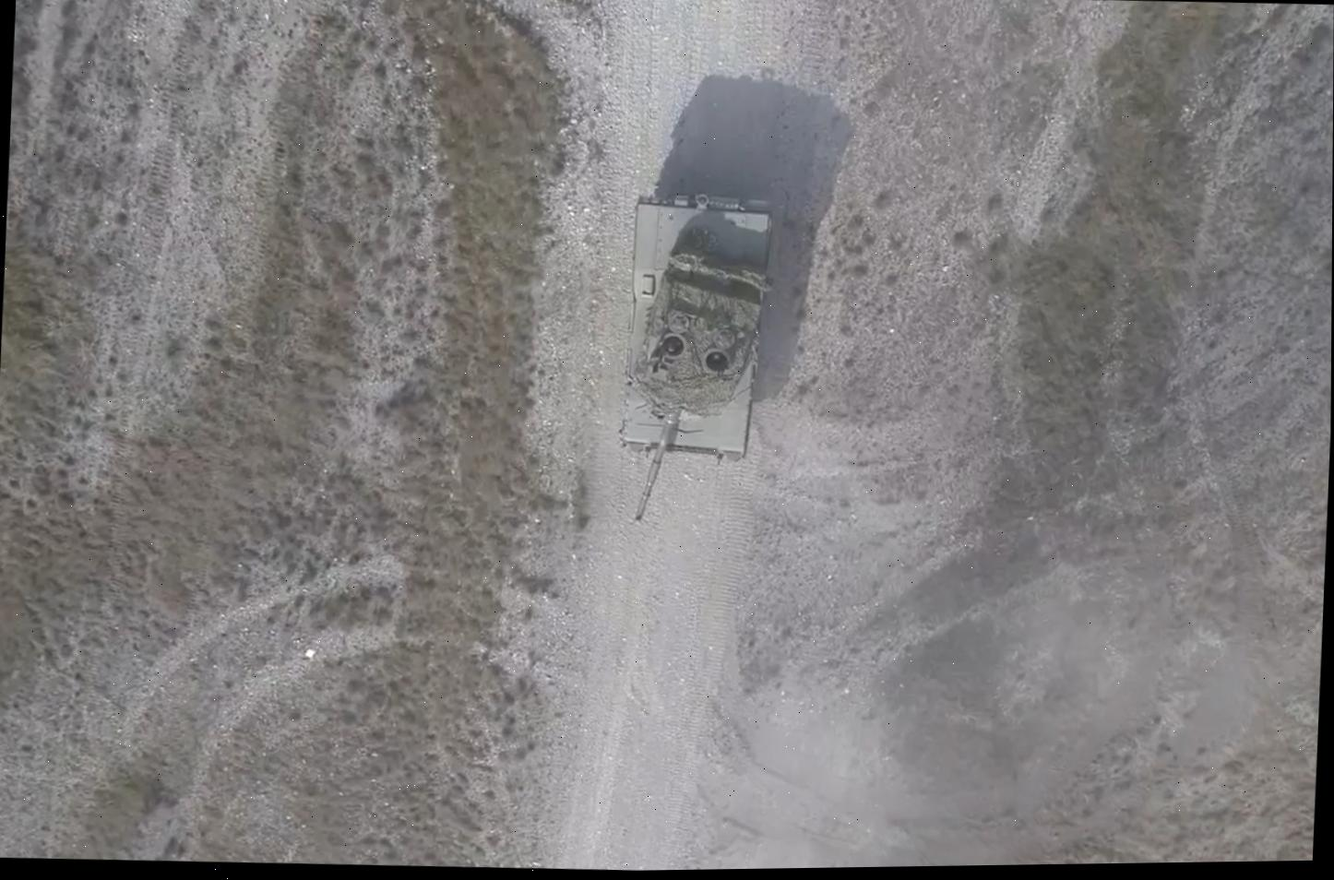tank: (605, 186, 782, 537)
